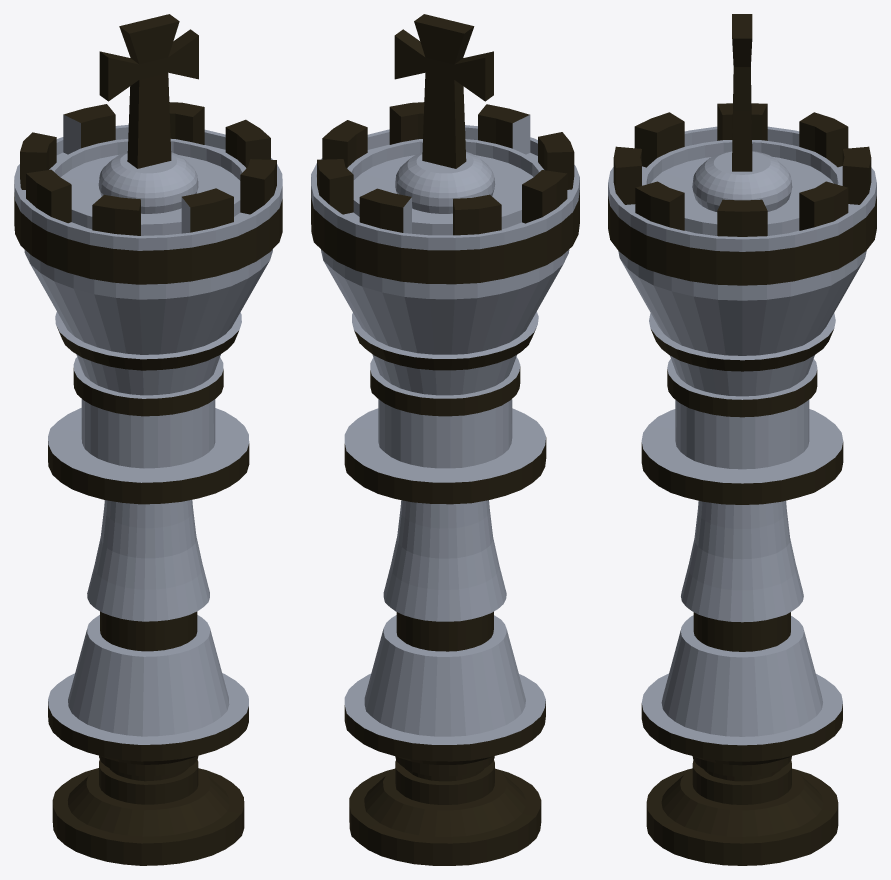
File: metal_k_w.glb
3 views of the same model, side by side, from view 1: azimuth 30°, elevation 25°; view 2: azimuth 150°, elevation 25°; view 3: azimuth 270°, elevation 25° (orthographic).
Visible parts, largest first — view 1: k1, k0; view 2: k1, k0; view 3: k1, k0.
Part boxes in pixels (<box>): k1: <box>14,114,282,744</box>; k0: <box>14,14,282,865</box>; k1: <box>311,115,579,744</box>; k0: <box>311,14,579,865</box>; k1: <box>608,126,876,745</box>; k0: <box>608,14,876,865</box>.
Size of the model in its own units: 0.2743 by 0.9 by 0.2743.
